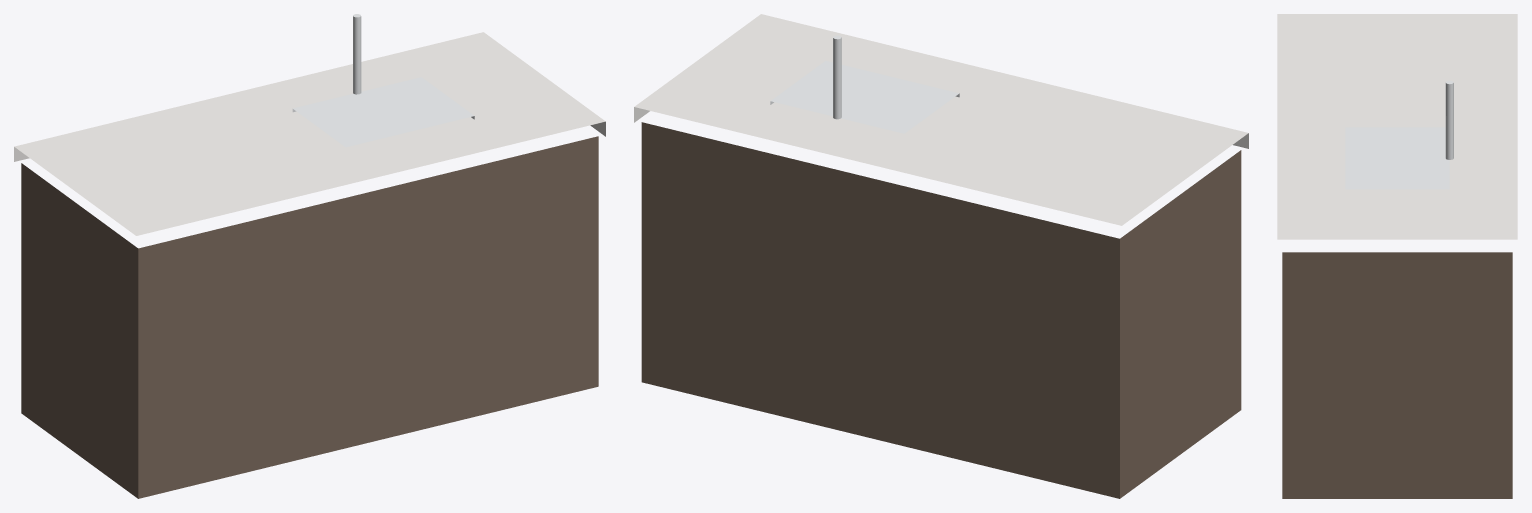
File: kitchen_counter.glb
3 renders of one model, left to right at view 1: azimuth 30°, elevation 25°; view 2: azimuth 150°, elevation 25°; view 3: azimuth 270°, elevation 25°, orthographic. The views are drawn at different scales.
Parts seen in each view (by area): view 1: RootNode; view 2: RootNode; view 3: RootNode.
Boxes of the visible parts, x1,y1,x2,y2 form: RootNode: (14,14,605,498); RootNode: (634,14,1248,498); RootNode: (1277,14,1517,498).
Size of the model in its own units: 5.1 by 3.6 by 2.3.
